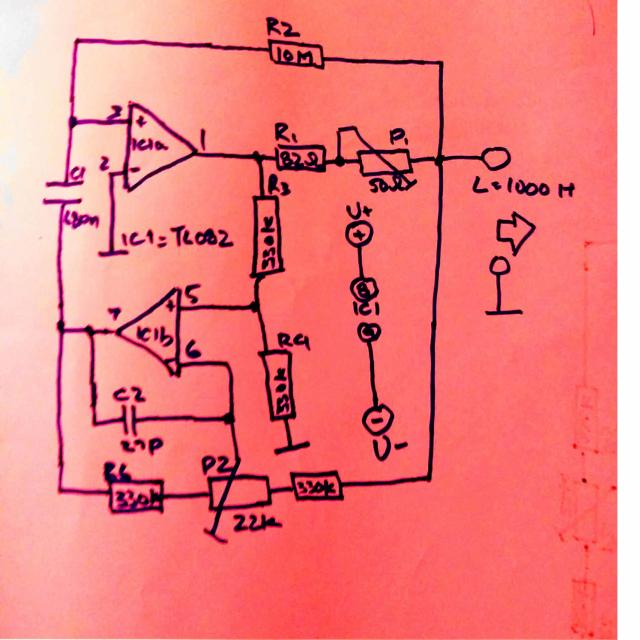capacitor: (40, 179, 84, 205), (120, 401, 138, 437)
ground: (272, 437, 312, 455), (482, 304, 524, 319), (96, 246, 130, 260)
junction: (230, 453, 246, 468), (222, 411, 237, 426), (333, 154, 346, 168), (67, 114, 79, 129), (55, 318, 67, 333), (248, 299, 261, 312), (83, 324, 95, 338), (433, 153, 445, 167), (252, 150, 263, 163), (436, 56, 446, 70), (332, 124, 343, 136), (350, 122, 361, 134), (72, 36, 82, 49), (105, 170, 115, 181), (89, 417, 99, 428), (55, 485, 65, 496), (222, 358, 232, 369), (422, 471, 432, 482)
resistor: (201, 474, 273, 545), (249, 194, 286, 279), (256, 347, 297, 421), (355, 148, 418, 192), (106, 476, 166, 516), (265, 37, 326, 70), (288, 469, 346, 503), (273, 142, 327, 174)
terminal: (360, 401, 396, 437), (343, 217, 375, 249), (479, 143, 513, 173), (348, 274, 380, 304), (354, 322, 382, 344), (488, 254, 511, 278)
text: (120, 223, 235, 250), (471, 173, 574, 200), (115, 485, 159, 511), (232, 511, 284, 533), (371, 433, 409, 462), (134, 323, 175, 349), (264, 12, 302, 40), (119, 435, 164, 456), (259, 214, 276, 269), (272, 366, 291, 415), (274, 44, 315, 66), (200, 453, 235, 478), (368, 172, 407, 194), (102, 460, 133, 486), (280, 150, 324, 168), (276, 330, 312, 352), (63, 209, 100, 230), (111, 385, 147, 405), (295, 479, 335, 497), (130, 135, 170, 152), (272, 120, 298, 144), (344, 200, 372, 222), (351, 300, 381, 316), (184, 337, 203, 361), (388, 127, 409, 148), (184, 281, 201, 305), (105, 104, 124, 120), (361, 324, 378, 341), (69, 165, 88, 179), (107, 305, 122, 322), (357, 281, 371, 299), (198, 127, 208, 152), (98, 154, 111, 172)
